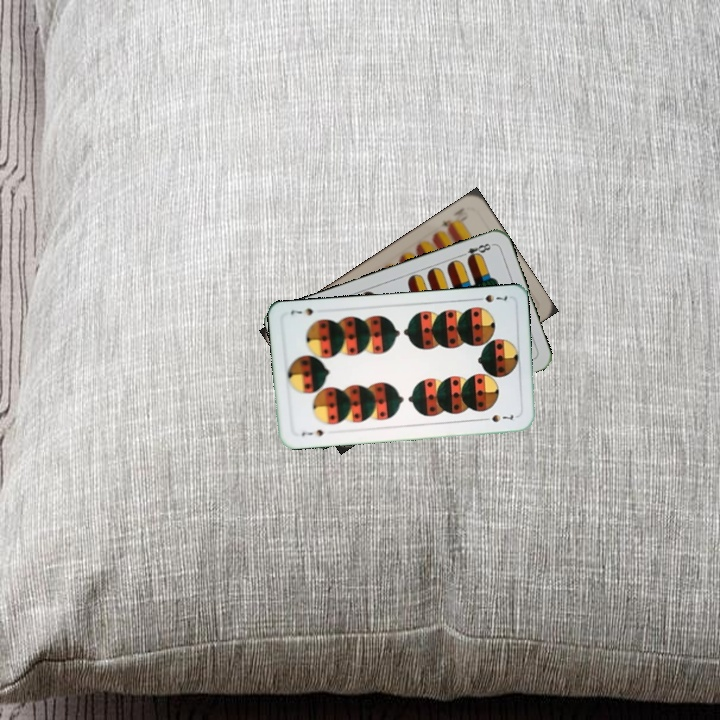E10: (437, 212, 461, 234)
E8: (456, 239, 495, 263)
S7: (471, 290, 510, 305), (298, 425, 326, 439)
